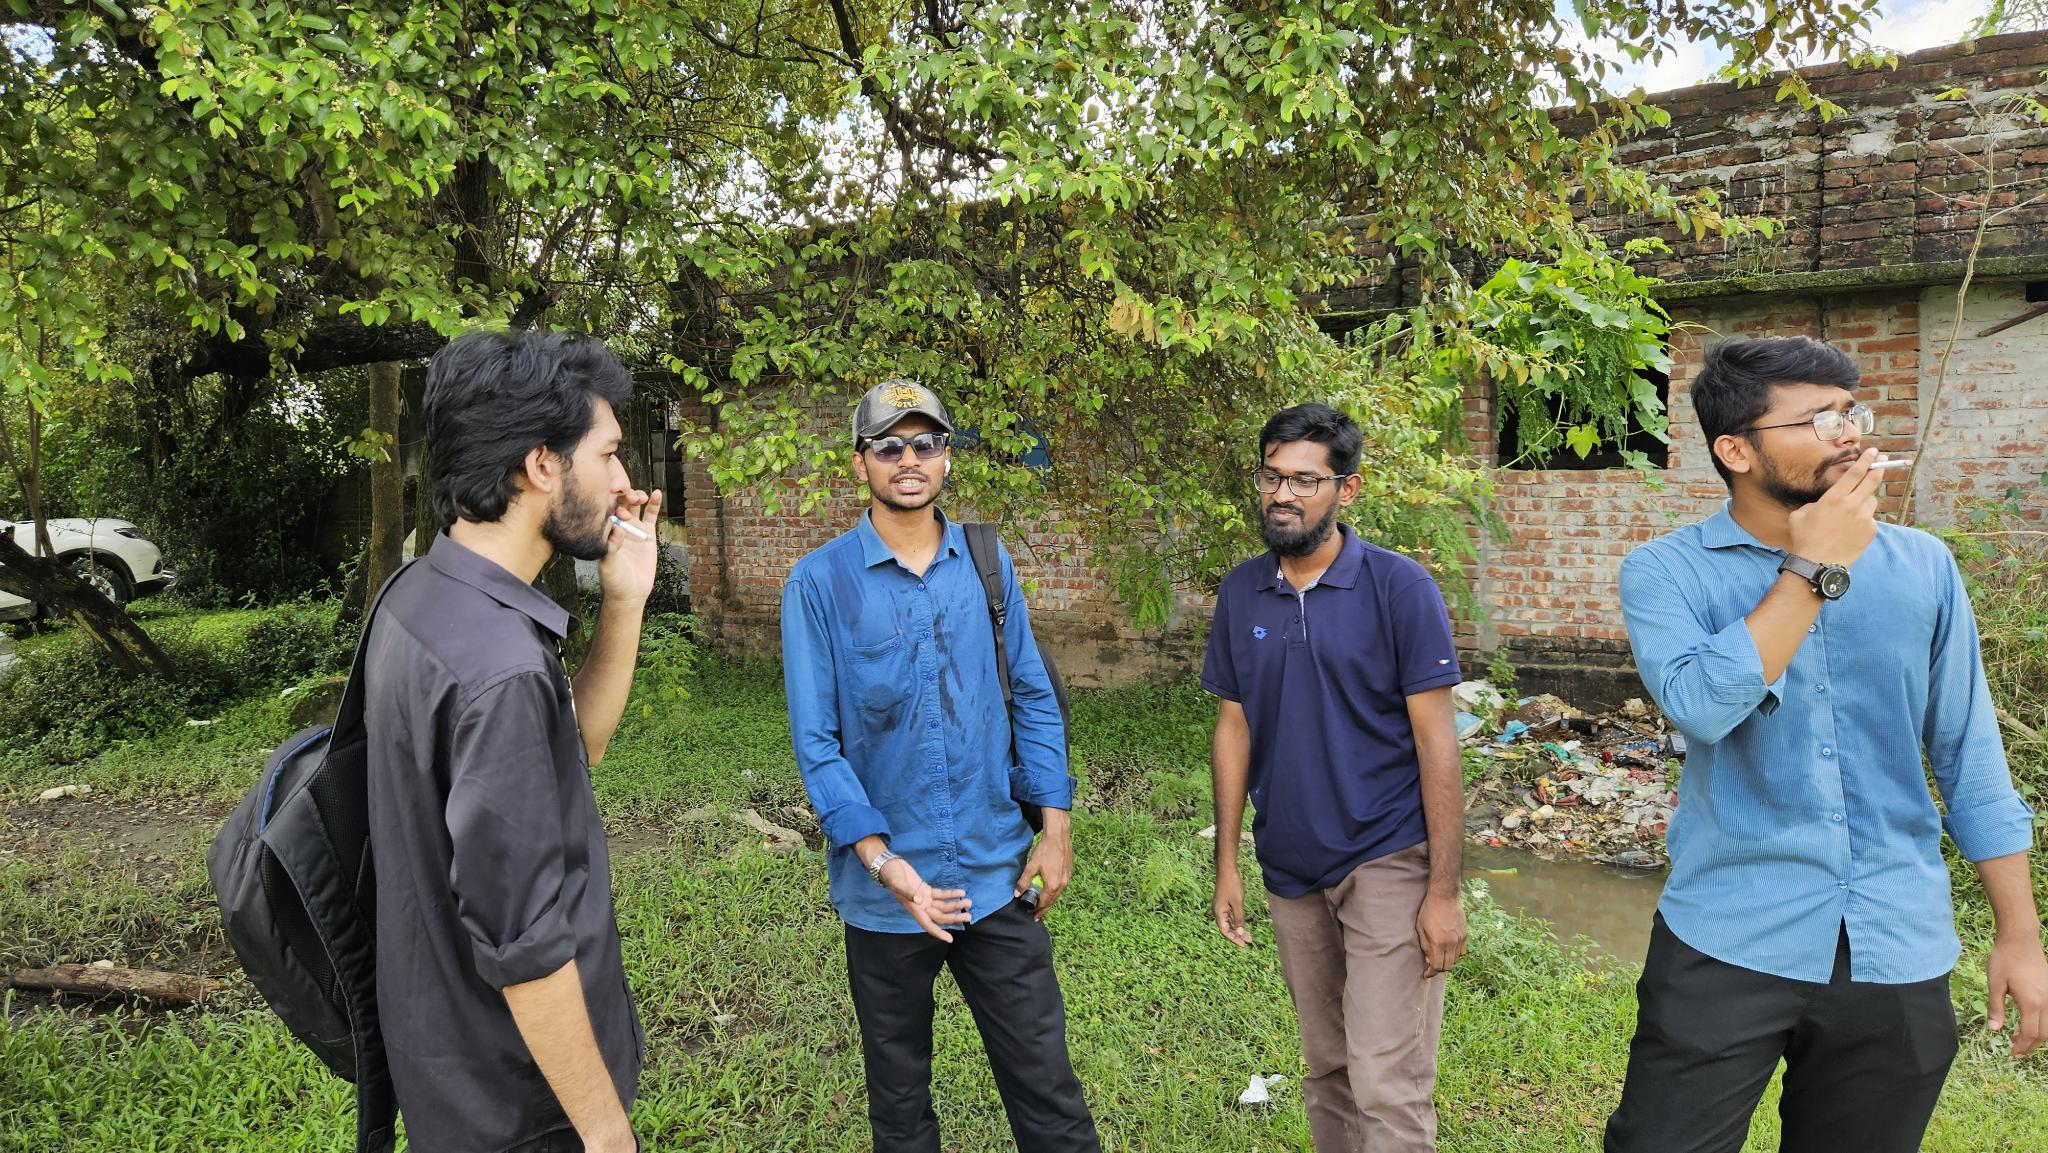cigarette: (608, 513, 655, 543), (1867, 457, 1916, 472)
nonSmoker: (778, 375, 1100, 1153), (1210, 404, 1468, 1153)
smoker: (205, 335, 663, 1153), (1605, 337, 2048, 1153)
